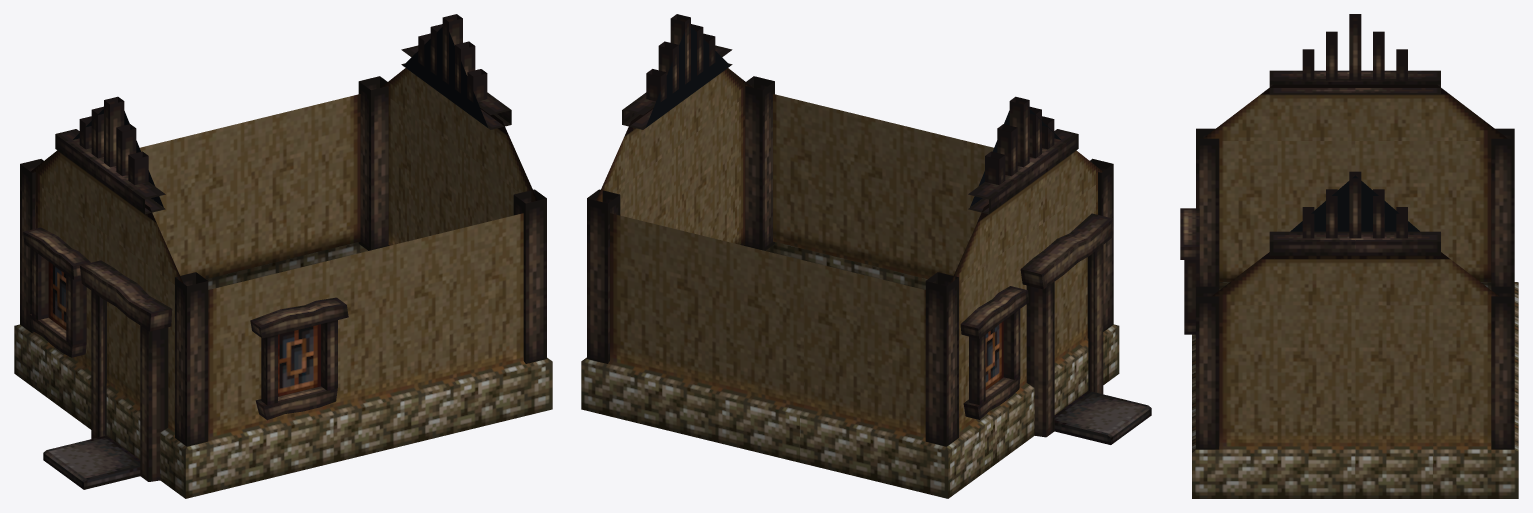
The model's file is EnvBdgMD_Desert_A_Outdoor_House_C.FBX.
3 renders of one model, left to right at view 1: azimuth 30°, elevation 25°; view 2: azimuth 150°, elevation 25°; view 3: azimuth 270°, elevation 25°, orthographic. The views are drawn at different scales.
Visible parts, largest first — view 1: EnvBdgMD_Desert_A_Outdoor_House_C; view 2: EnvBdgMD_Desert_A_Outdoor_House_C; view 3: EnvBdgMD_Desert_A_Outdoor_House_C.
Boxes of the visible parts, x1,y1,x2,y2 form: EnvBdgMD_Desert_A_Outdoor_House_C: (14, 14, 552, 498); EnvBdgMD_Desert_A_Outdoor_House_C: (581, 14, 1151, 498); EnvBdgMD_Desert_A_Outdoor_House_C: (1180, 14, 1518, 498).
Size of the model in its own units: 615 by 450 by 435.
